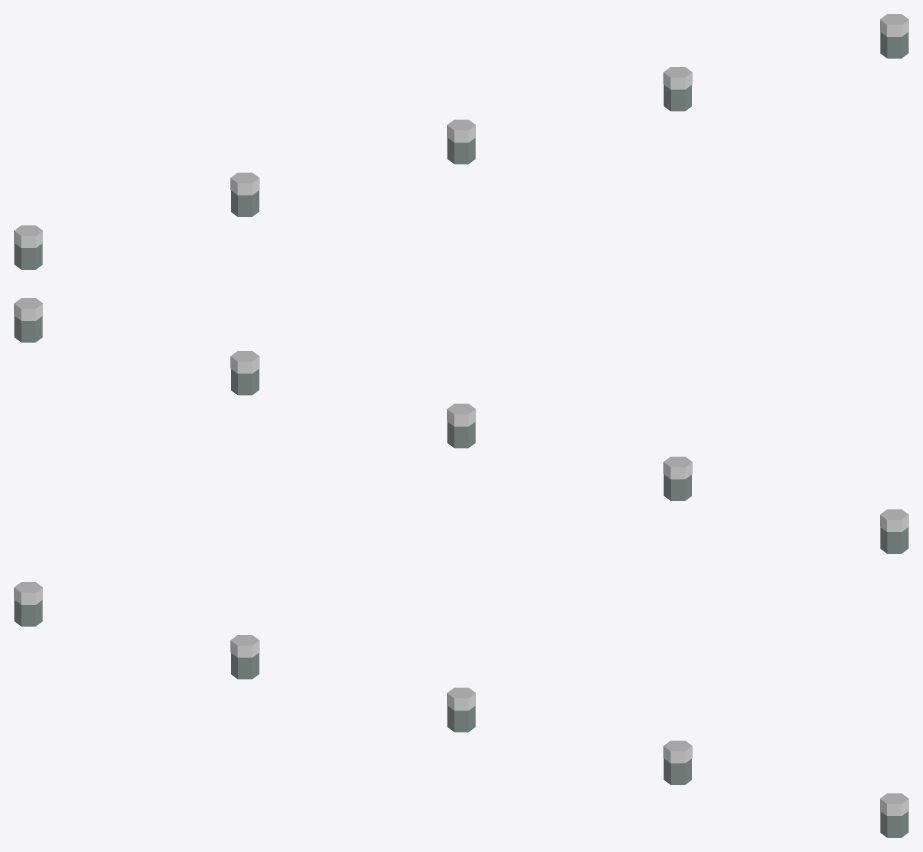
File: SM_Balizas_v0_Blancas_LOD1.fbx
3 views of the same model, one above another, from view 1: azimuth 30°, elevation 25°; view 2: azimuth 150°, elevation 25°; view 3: azimuth 330°, elevation 25° (orthographic).
Parts seen in each view (by area): view 1: SM_ambiente_aerodromo_v5_LOD1; view 2: SM_ambiente_aerodromo_v5_LOD1; view 3: SM_ambiente_aerodromo_v5_LOD1.
Boxes of the visible parts, <box> form: SM_ambiente_aerodromo_v5_LOD1: <box>14,14,908,269</box>; SM_ambiente_aerodromo_v5_LOD1: <box>14,298,908,553</box>; SM_ambiente_aerodromo_v5_LOD1: <box>14,582,908,837</box>.
Size of the model in its own units: 12.3 by 0.45 by 0.35.
